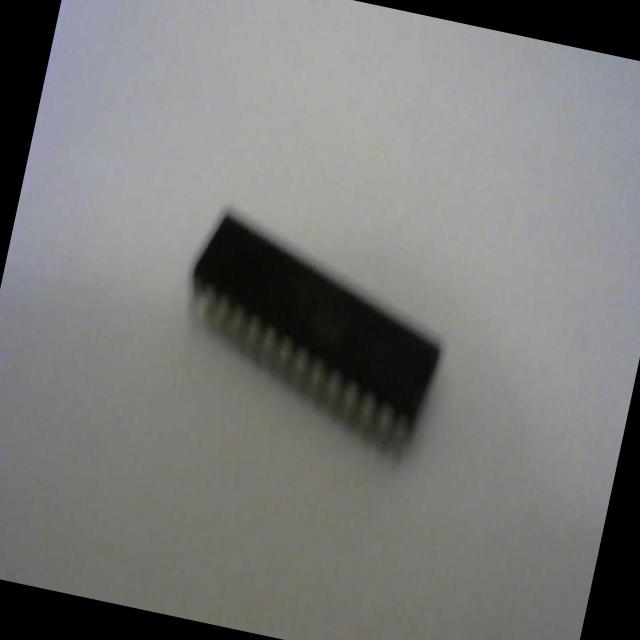atmega: (159, 197, 464, 468)
